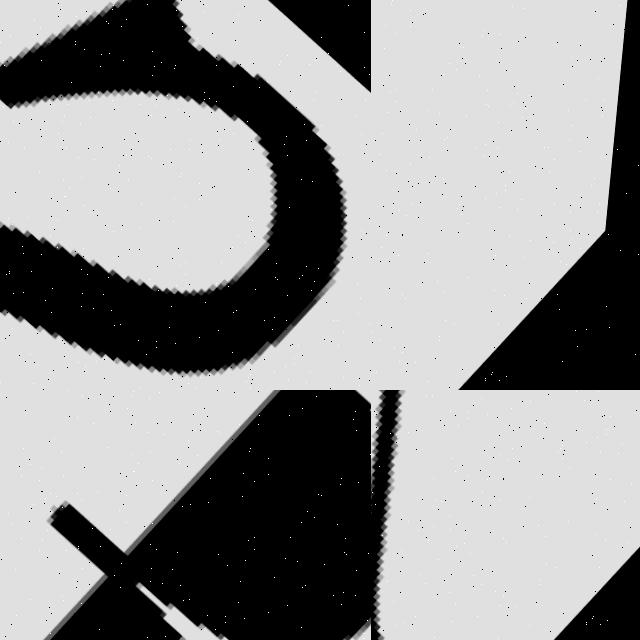3: (0, 390, 371, 640)
7: (371, 0, 609, 390)
S: (0, 0, 371, 390)
Y: (371, 390, 640, 640)
